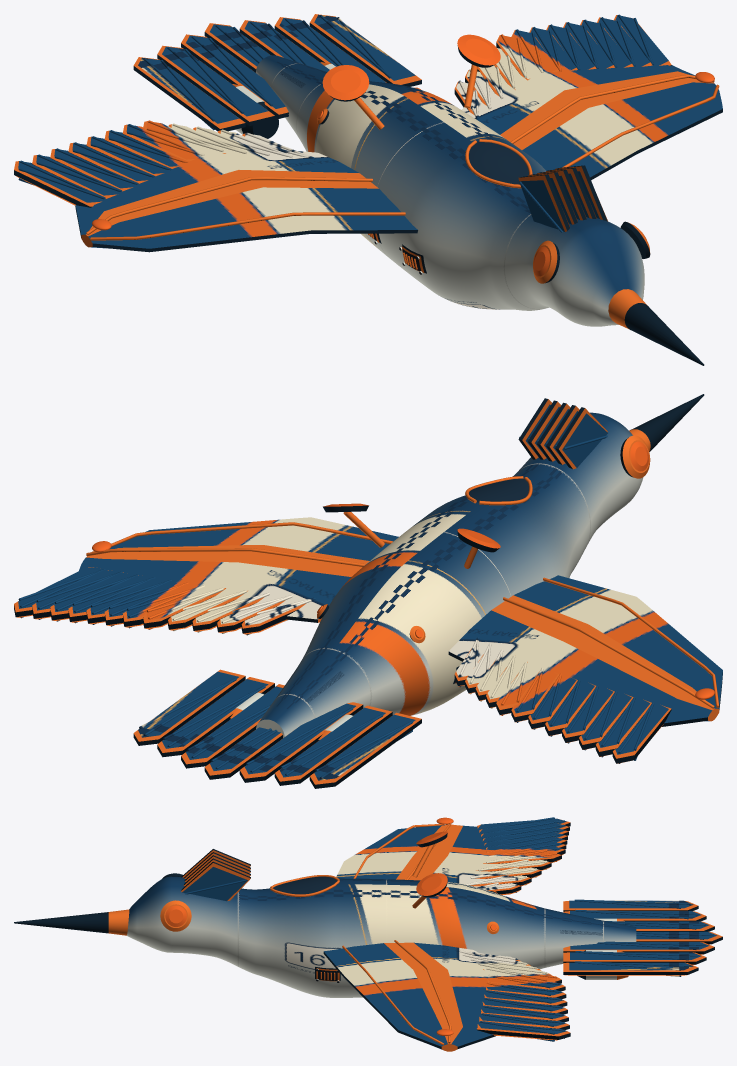
The picture shows the model from 3 angles, top to bottom: view 1: azimuth 30°, elevation 25°; view 2: azimuth 150°, elevation 25°; view 3: azimuth 270°, elevation 25°; orthographic projection. The views are drawn at different scales.
Visible parts, largest first — view 1: kingfisher_hull; view 2: kingfisher_hull; view 3: kingfisher_hull.
Part boxes in pixels (bbox=[...]): kingfisher_hull: bbox=[14, 14, 722, 365]; kingfisher_hull: bbox=[14, 394, 722, 788]; kingfisher_hull: bbox=[14, 817, 722, 1051].
Bounding box in the file's own units: 12.5 × 3.63 × 17.
Materials: 1 (1 with a texture image).
